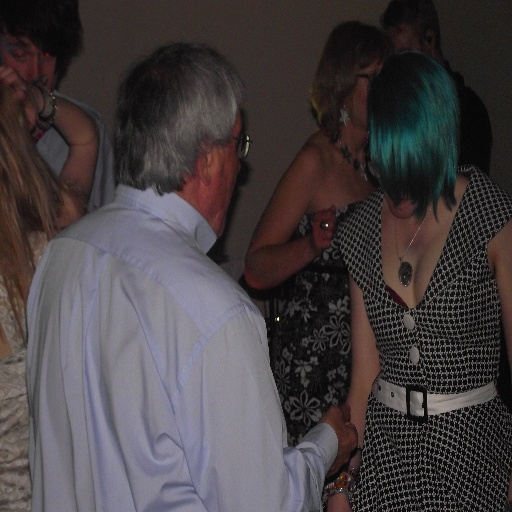hand: (324, 394, 365, 475), (0, 65, 41, 131), (51, 182, 88, 226), (309, 203, 336, 254), (325, 495, 352, 511)
